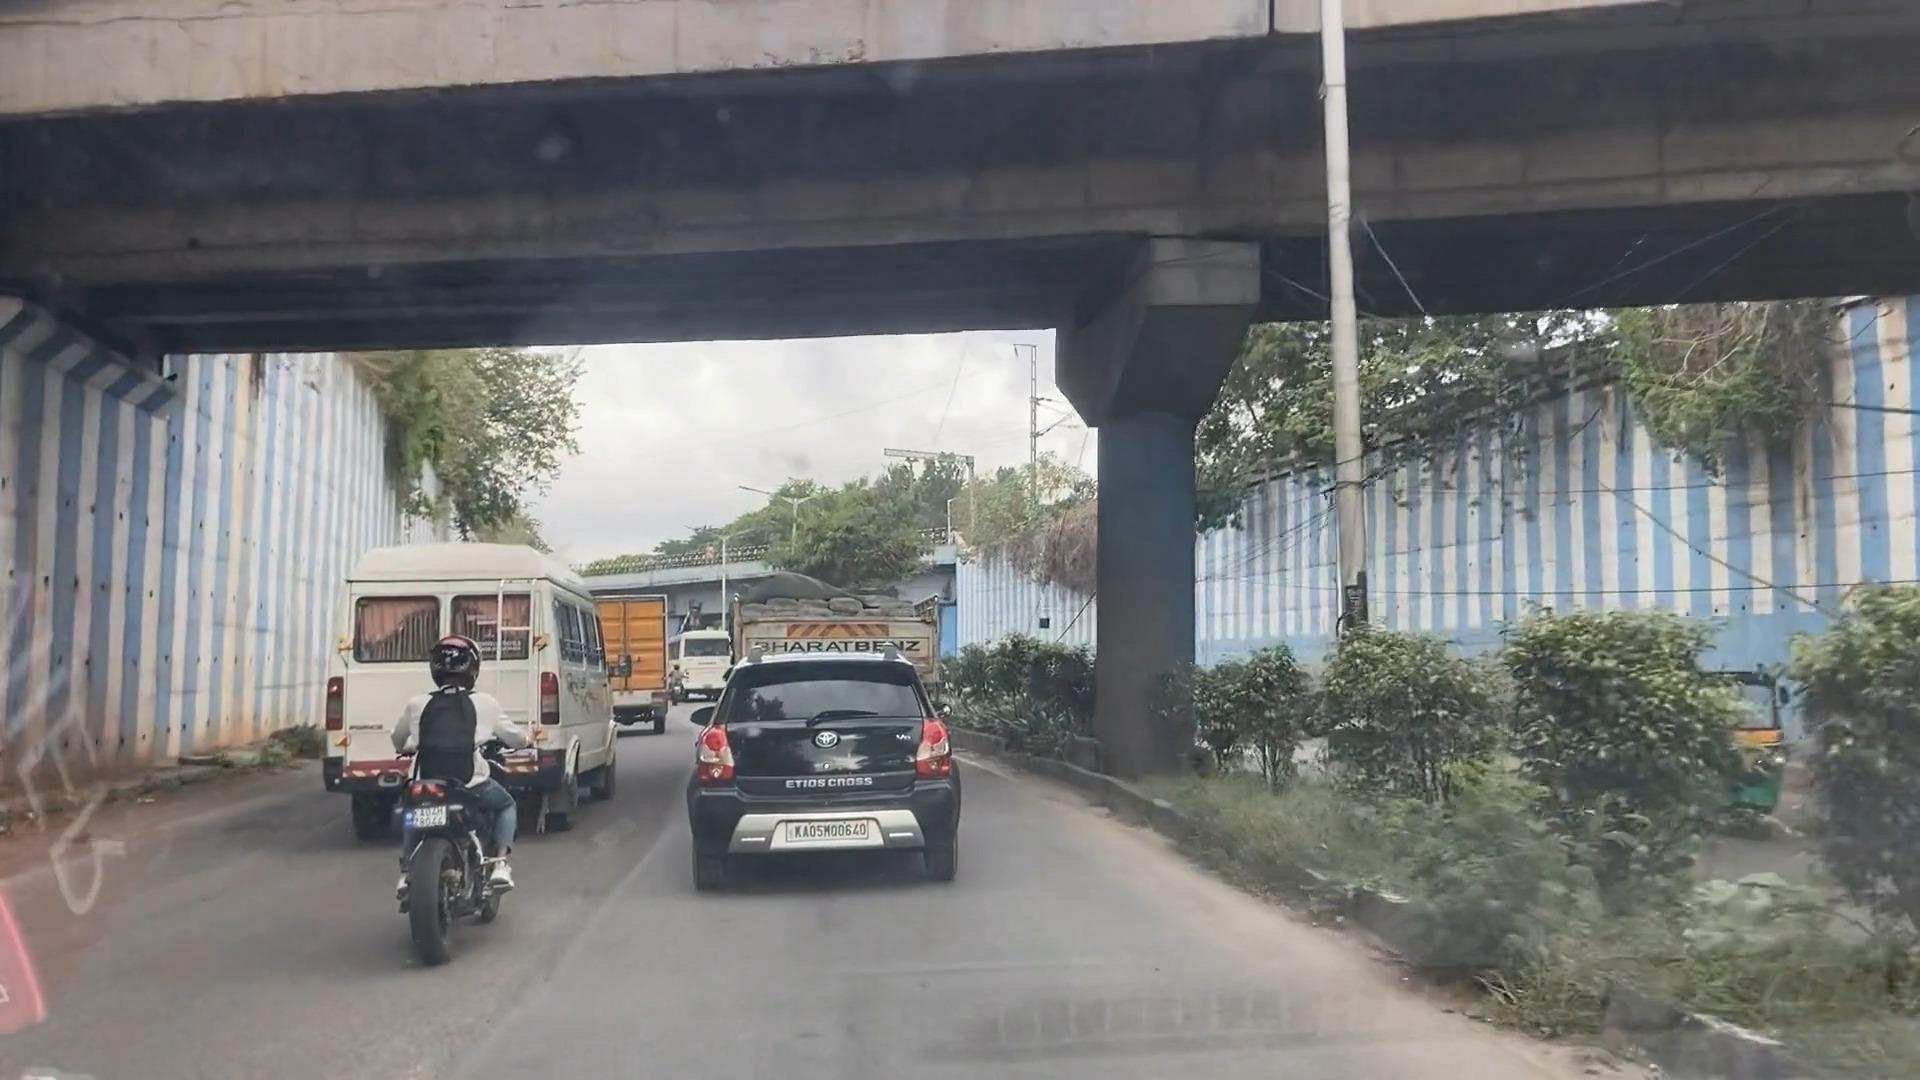HMV: (345, 549, 622, 818)
LMV: (691, 666, 957, 889), (396, 646, 522, 973)
